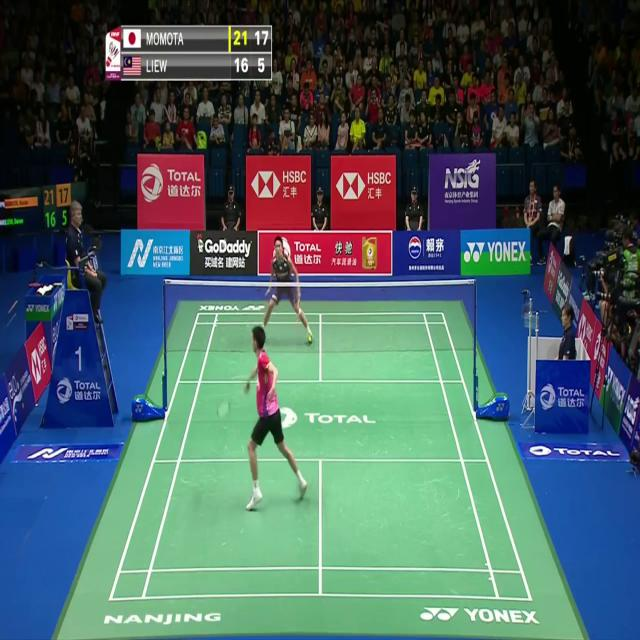Shuttlecock: (221, 238, 228, 249)
